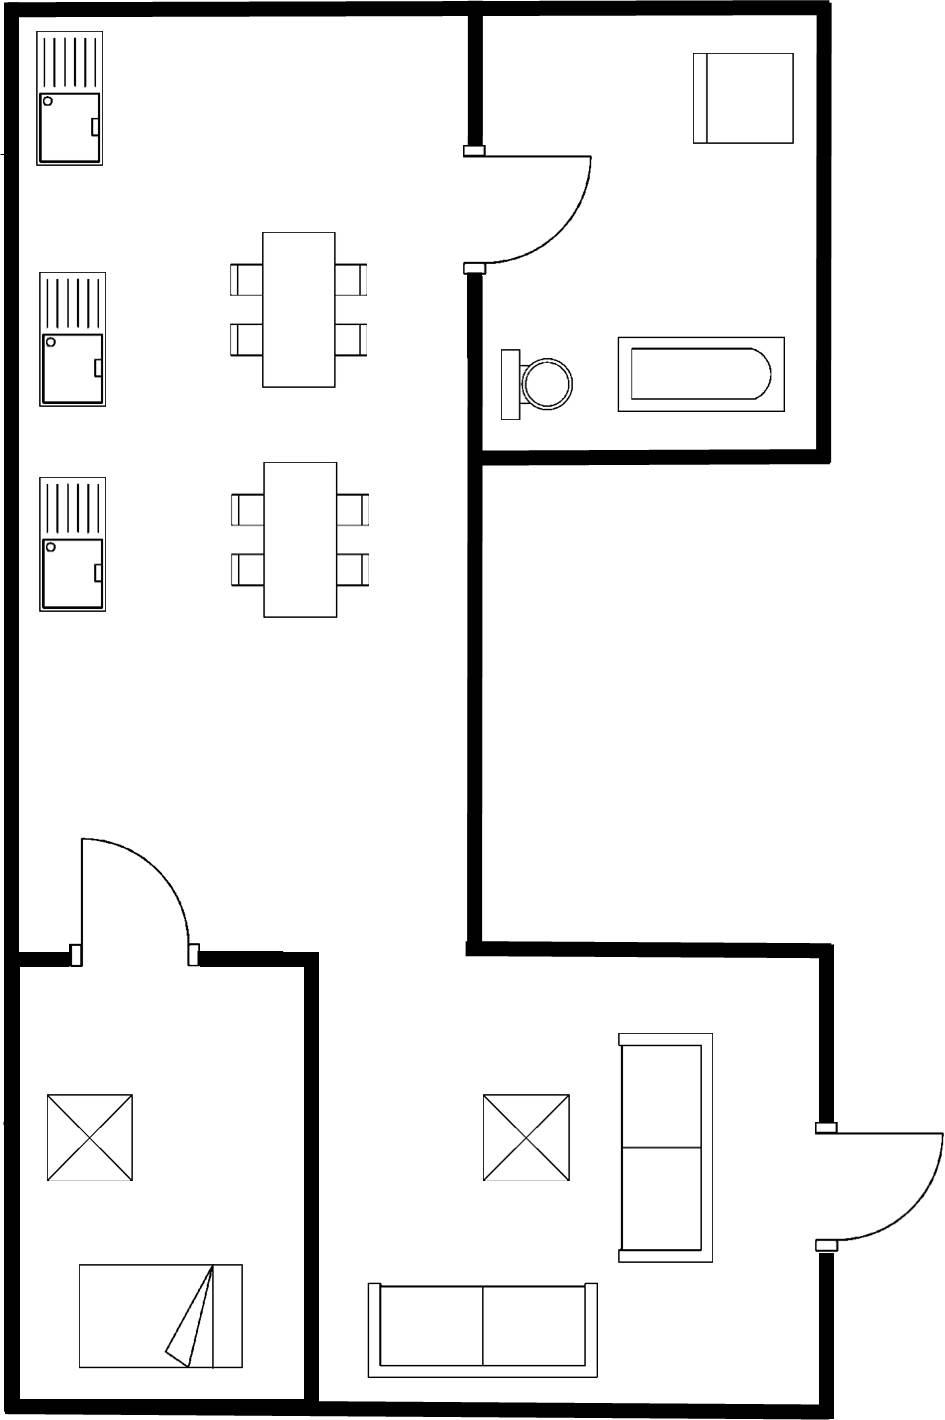bed: (70, 1256, 251, 1379)
coffee_table: (472, 1085, 576, 1189), (38, 1086, 141, 1187)
dining_table: (220, 224, 374, 399), (223, 453, 379, 624)
large_sink: (494, 344, 576, 429)
large_sofa: (610, 1022, 720, 1271), (356, 1276, 606, 1385)
sink: (31, 472, 115, 622), (29, 25, 110, 174), (31, 267, 112, 415)
small_sofa: (683, 43, 801, 151)
tub: (610, 328, 792, 422)
